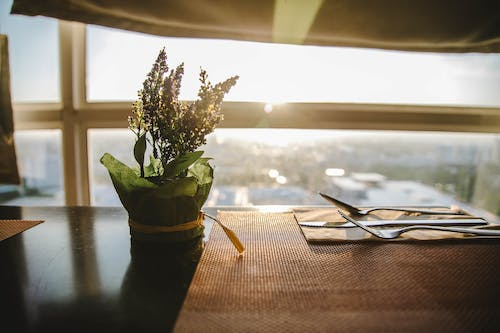knife: (297, 217, 489, 229)
